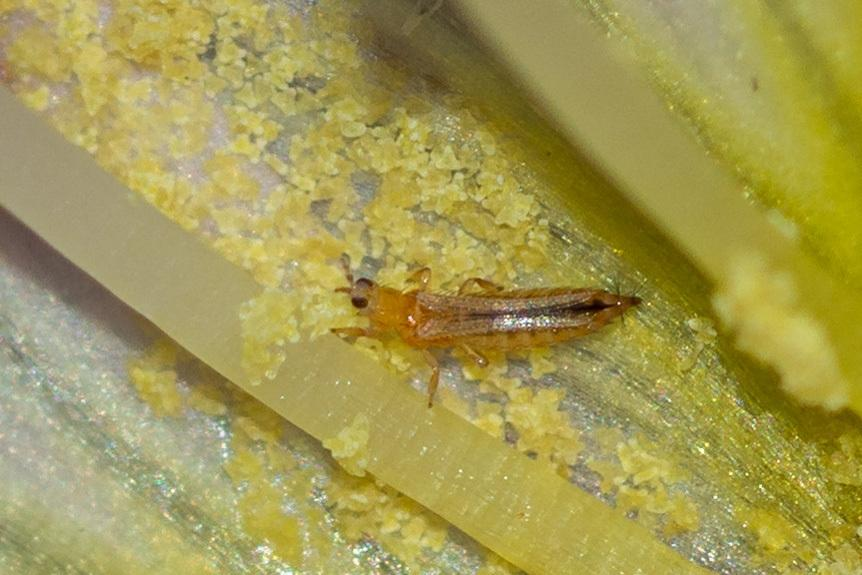tiny_pests: (302, 217, 667, 436)
